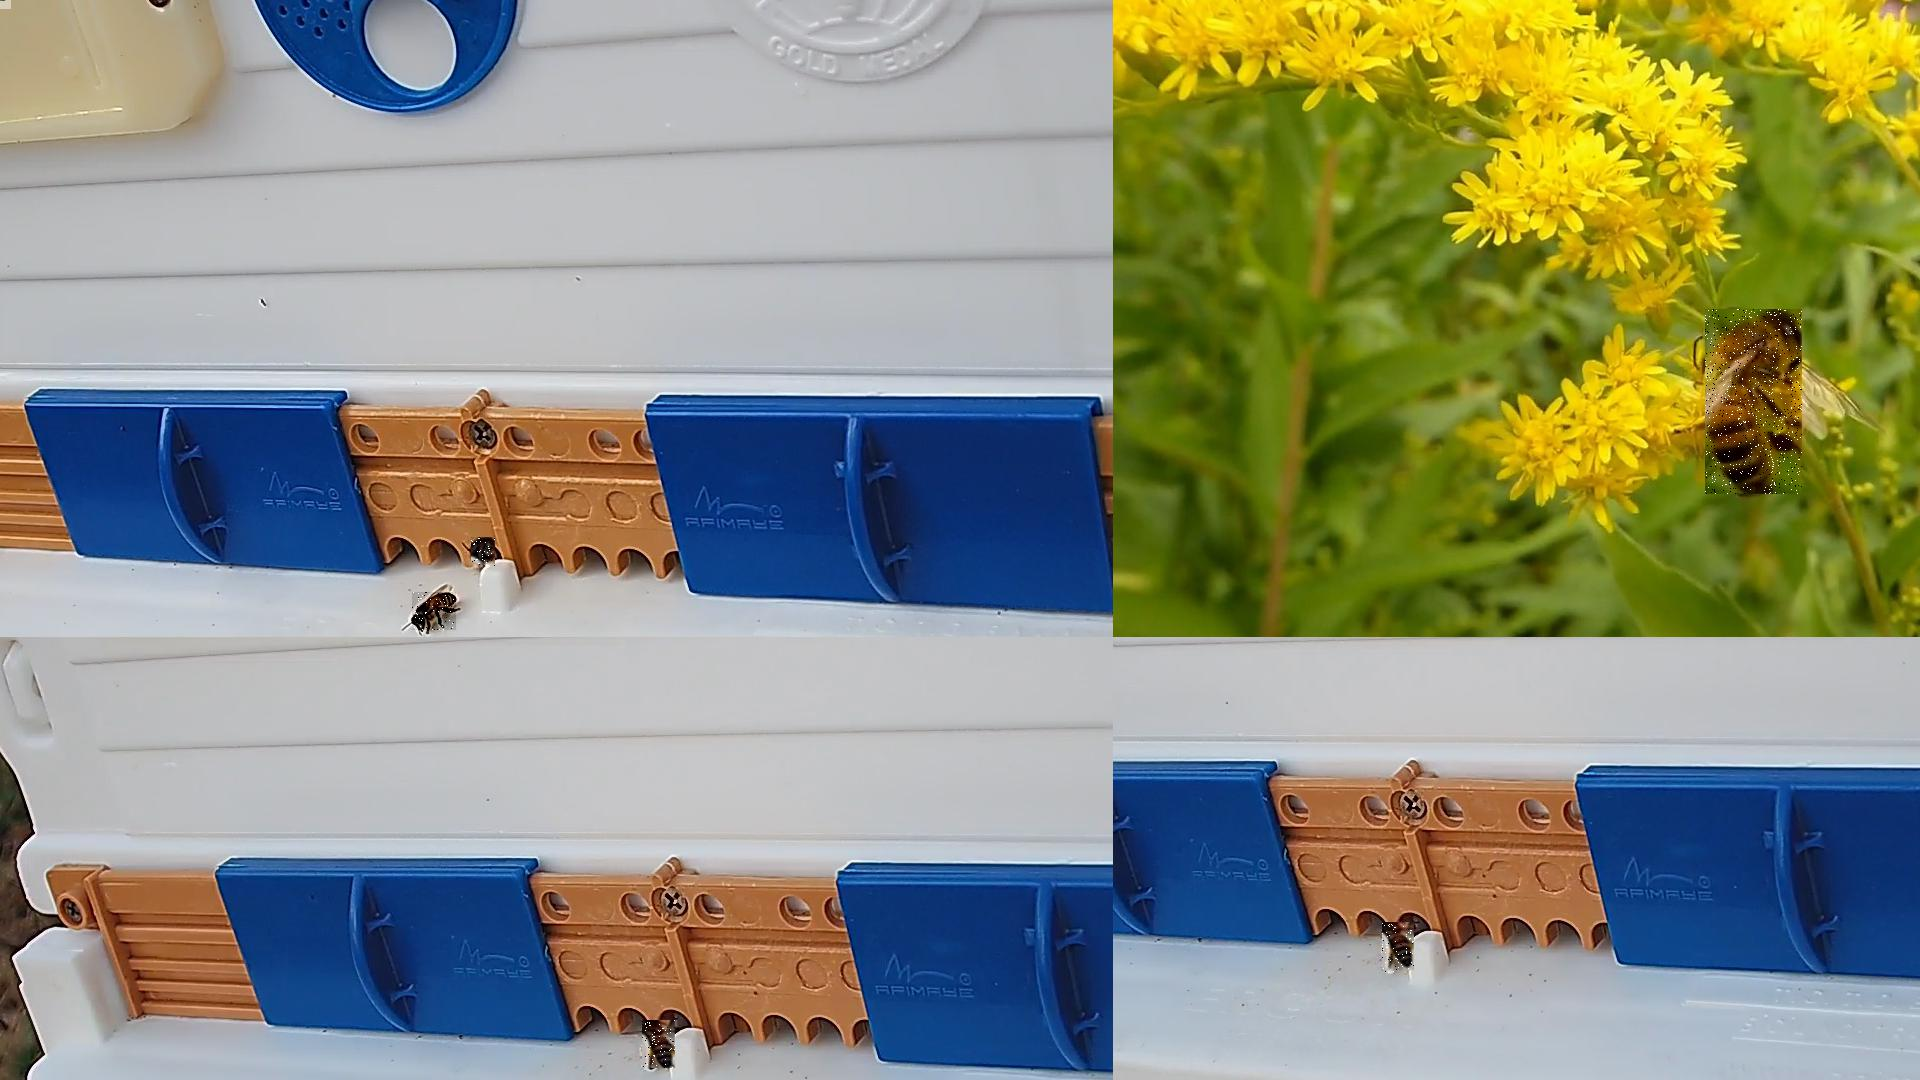bee: (1705, 309, 1803, 495), (413, 592, 458, 632), (471, 538, 496, 568)
pollenbee: (642, 1021, 676, 1069), (1382, 923, 1415, 973)
